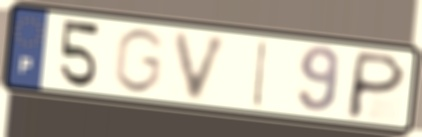5: (57, 18, 101, 90)
9: (295, 43, 342, 118)
G: (110, 25, 168, 96)
I: (249, 37, 271, 110)
P: (342, 48, 410, 122)
V: (171, 29, 234, 104)
